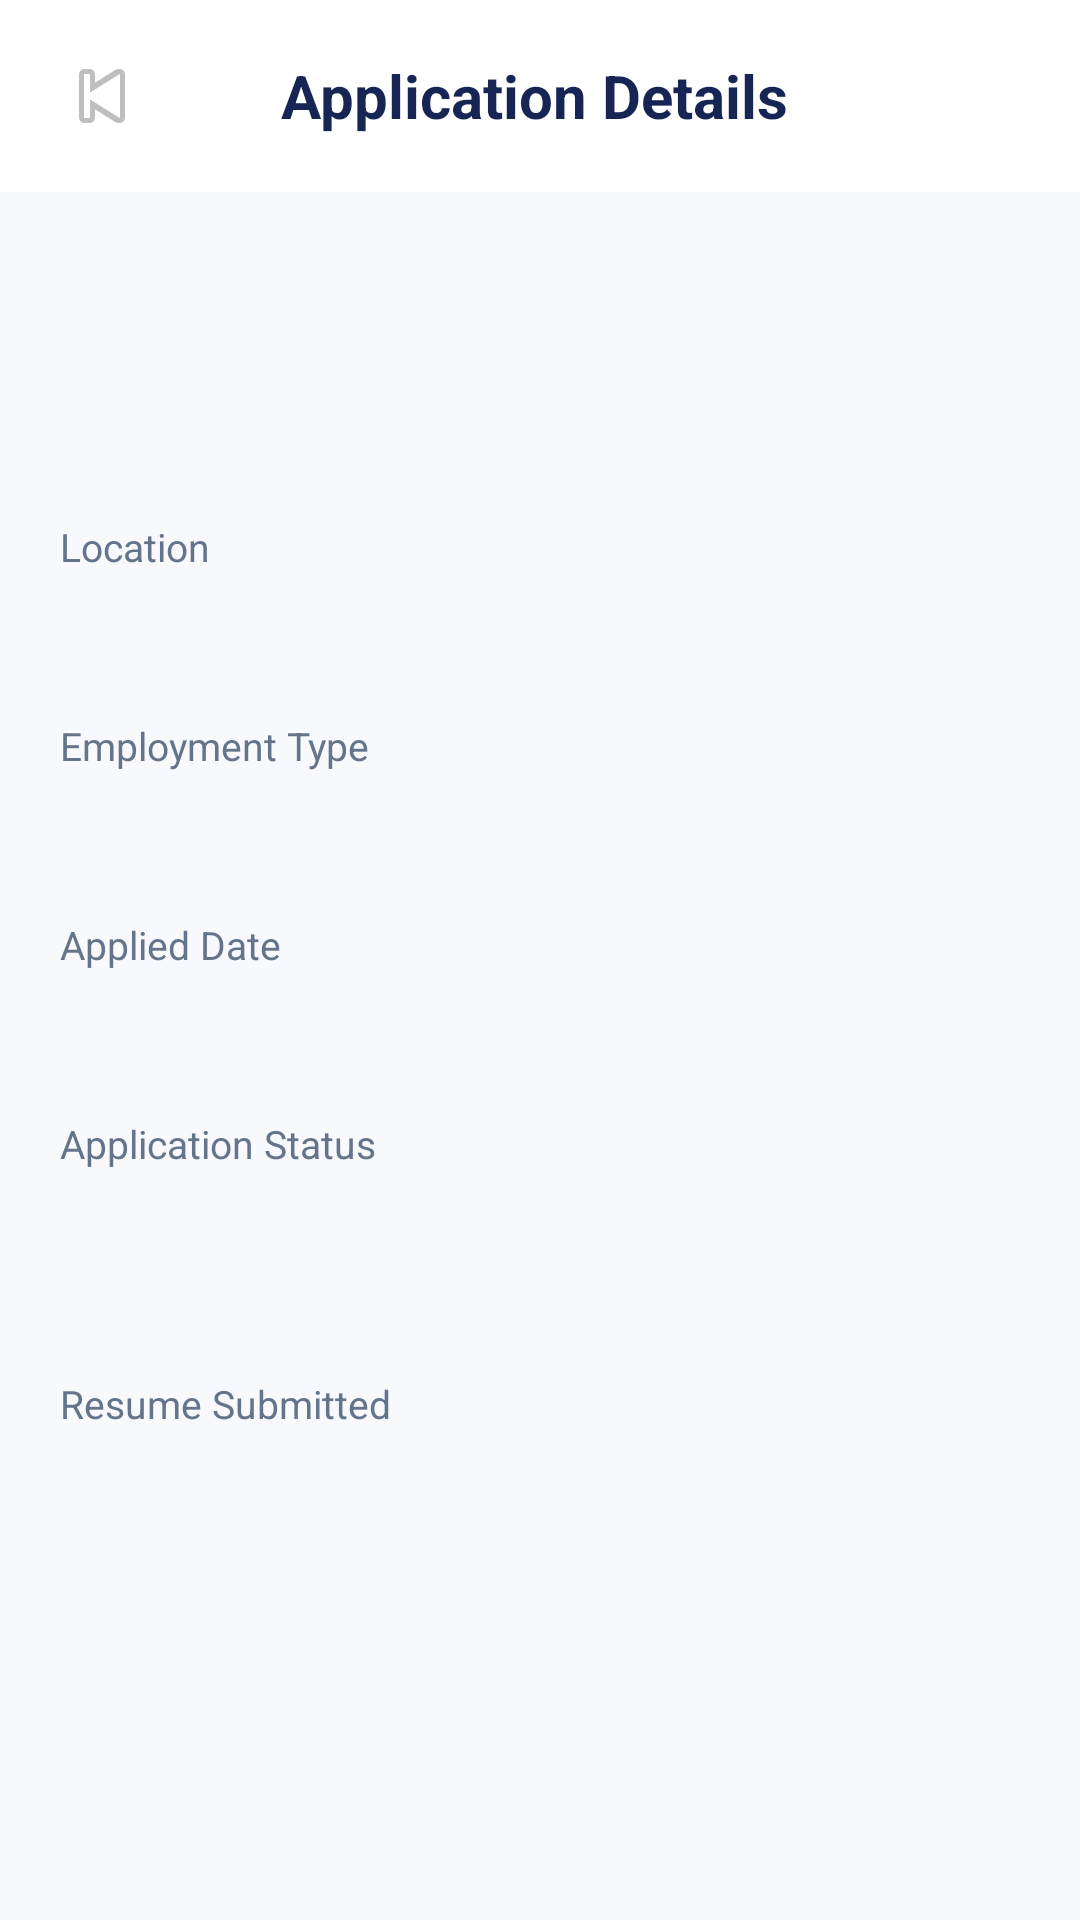

Locate icon controls on the screen. Image size 1080×1920, boxes as (x1=x1, y1=y1, x2=x2, y2=y2).
Back: (x1=79, y1=69, x2=125, y2=123)
